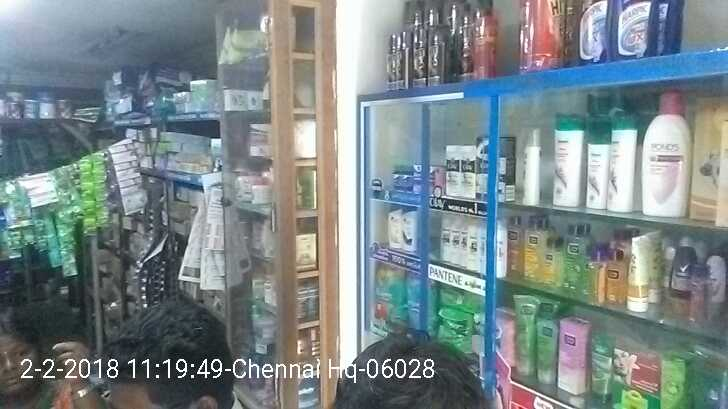vicks: (377, 158, 443, 198)
